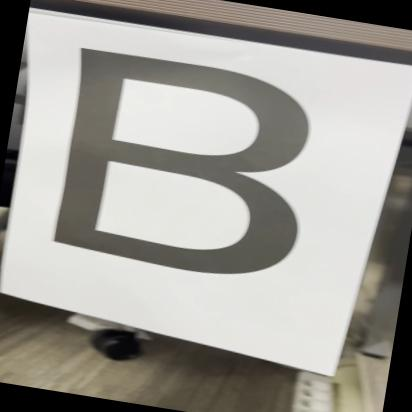seat: (28, 32, 344, 297)
